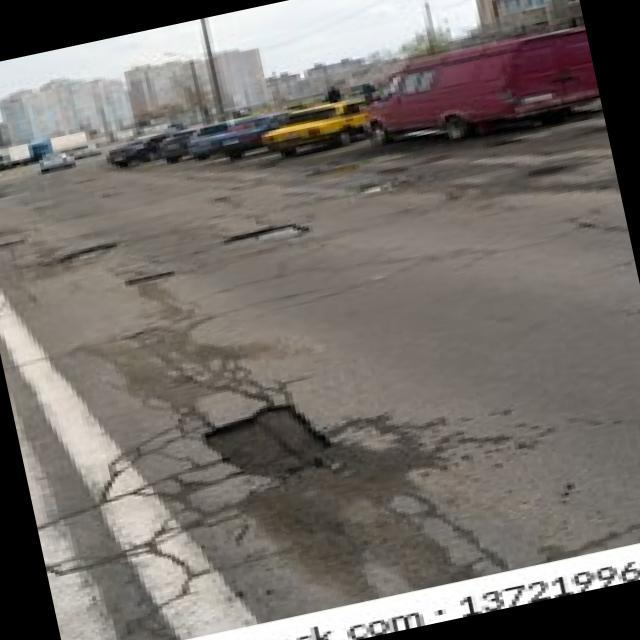Pothole: (202, 395, 339, 491), (222, 220, 314, 250), (54, 239, 119, 266), (120, 268, 175, 289), (0, 236, 24, 248)
